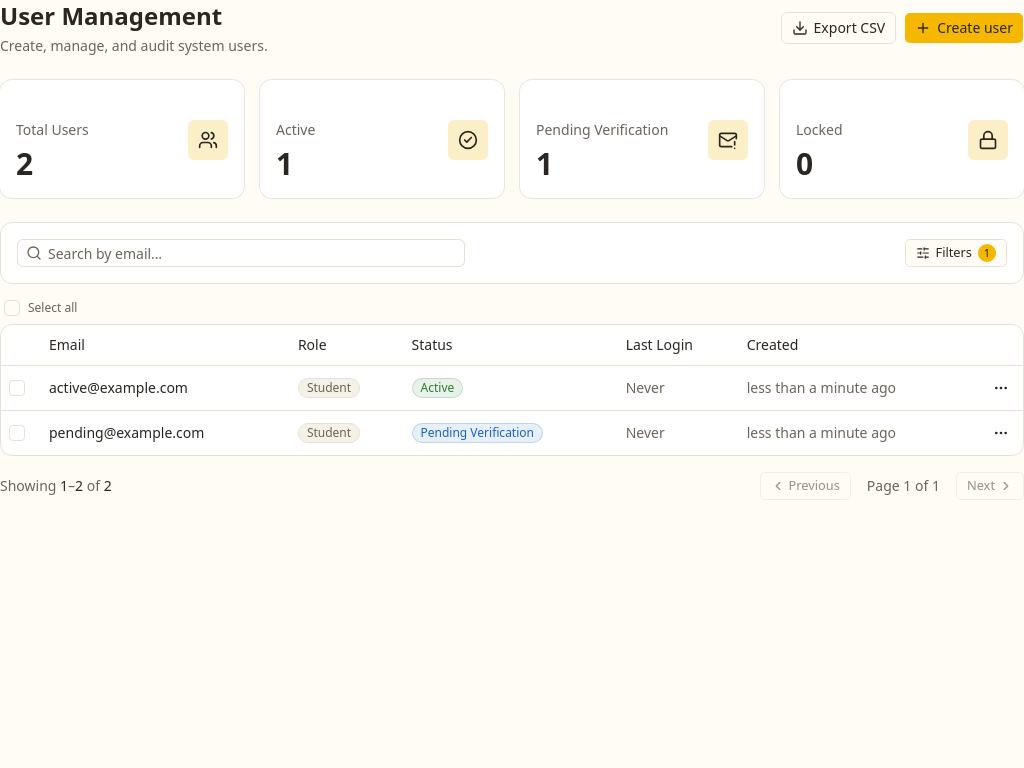
Scenario: UsersPage › opens the create-user drawer
The width and height of the screenshot is (1024, 768).
Expected: the button "active@example.com" is shown, [49, 378, 188, 398]
Click the button "Create user" at x=964, y=28, box [904, 12, 1023, 44]
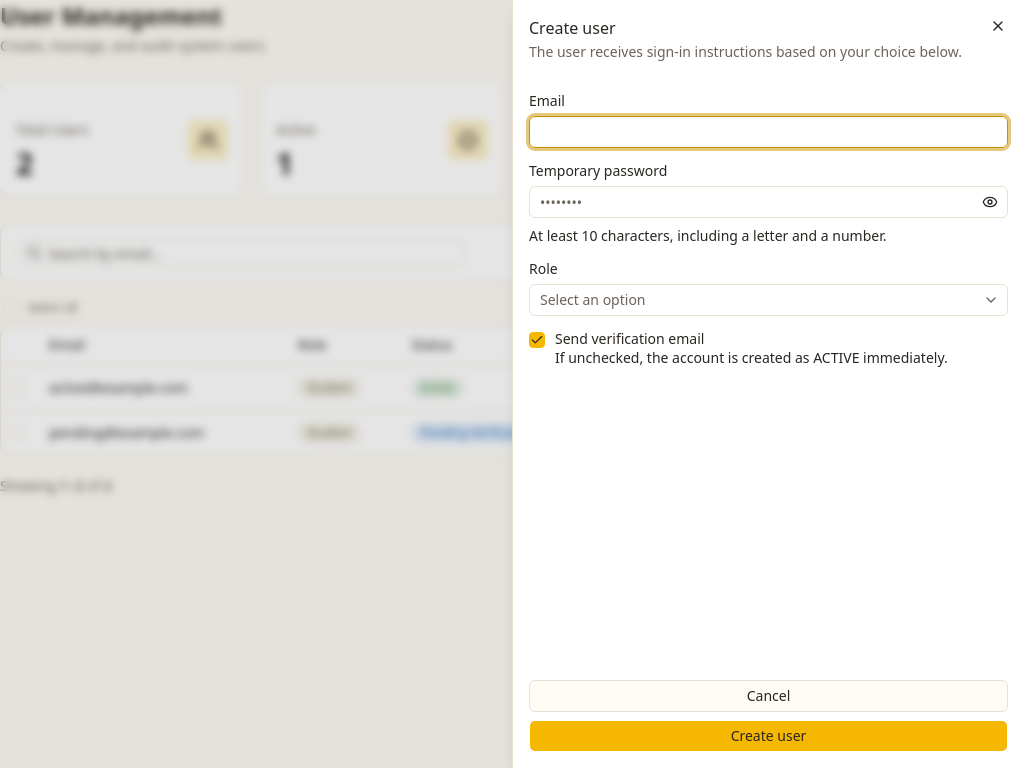
Now the heading "Create user" is shown, box [529, 17, 616, 39]
